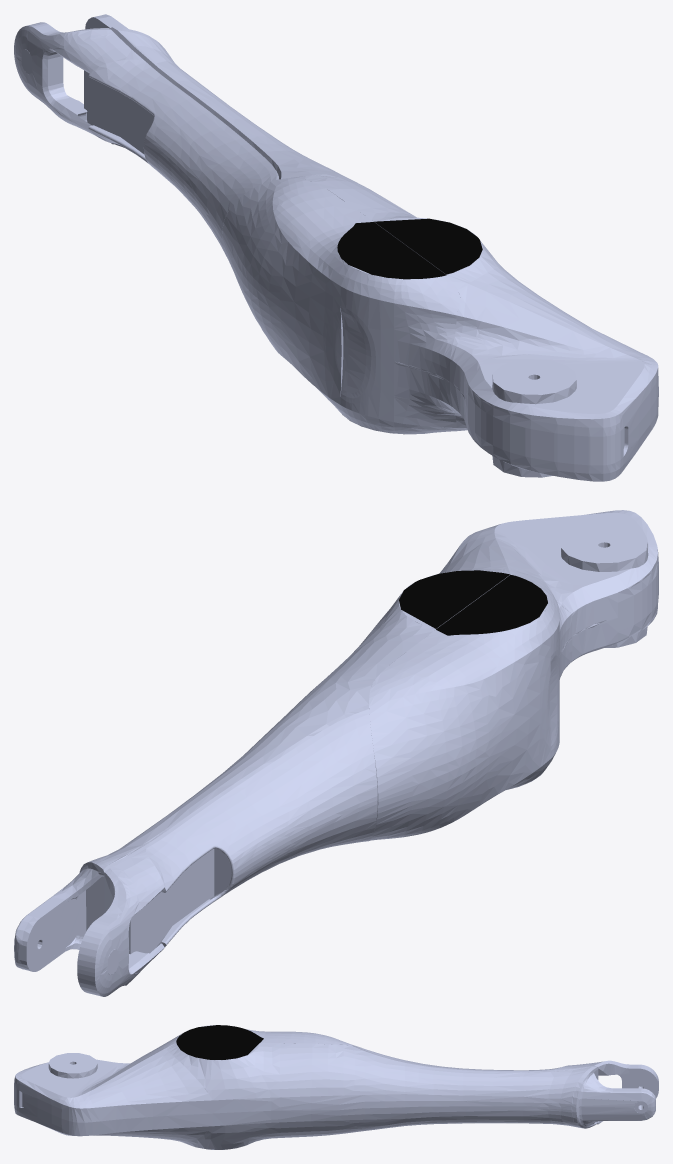
Rendered from left_knee_link.dae.
The picture shows the model from 3 angles, top to bottom: view 1: azimuth 30°, elevation 25°; view 2: azimuth 150°, elevation 25°; view 3: azimuth 270°, elevation 25°; orthographic projection. The views are drawn at different scales.
Parts seen in each view (by area): view 1: left_knee_link; view 2: left_knee_link; view 3: left_knee_link.
Boxes of the visible parts, x1,y1,x2,y2 form: left_knee_link: [14, 14, 658, 481]; left_knee_link: [14, 510, 658, 996]; left_knee_link: [14, 1025, 658, 1149].
Bounding box in the file's own units: 0.1188 × 0.0867 × 0.564.
